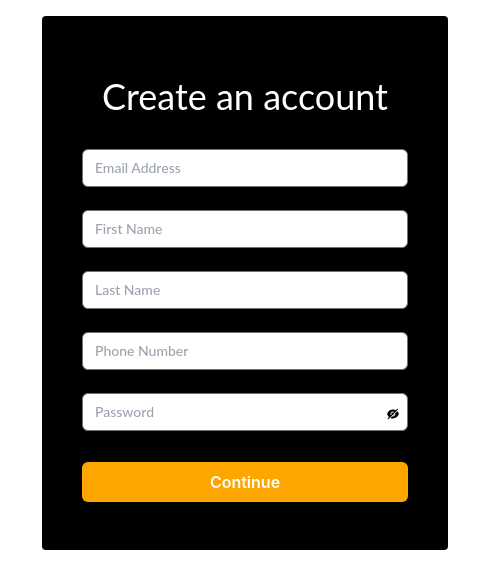
Scenario: SignUp Page testing › should properly handle incorrect email
The width and height of the screenshot is (491, 567).
Type "arjun" into the field with placeholder "Email Address".
click(245, 168); type("arjun")  # box [82, 149, 408, 187]
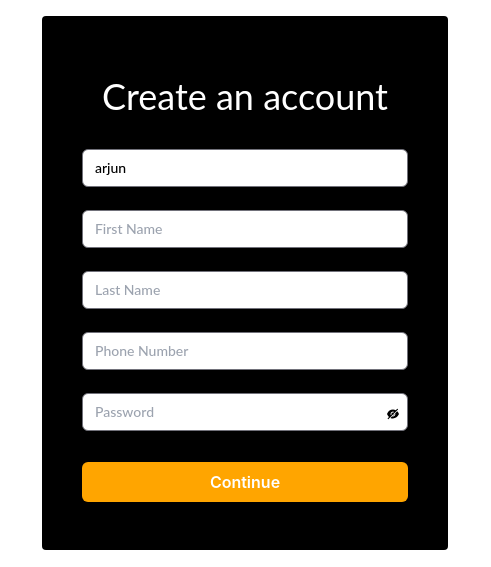
Click the button "Continue".
click(245, 482)  # box [82, 462, 408, 502]
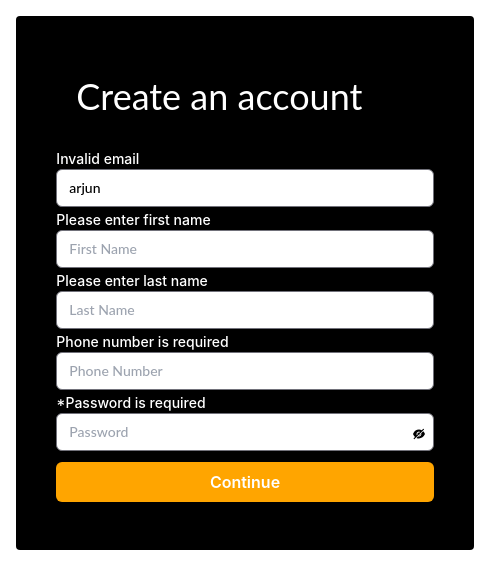
Check: the text "Invalid email" is shown, box [56, 150, 139, 167]
